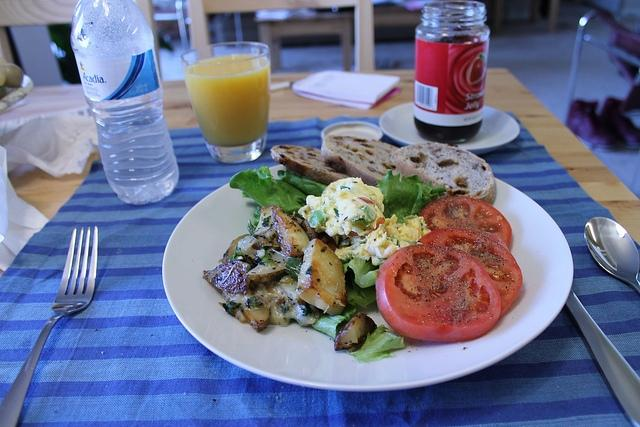potato: (296, 238, 348, 316), (221, 292, 270, 333), (271, 204, 308, 256), (202, 259, 251, 296), (246, 252, 288, 285)
tomato: (376, 244, 500, 342), (419, 227, 522, 317), (418, 196, 512, 250)
